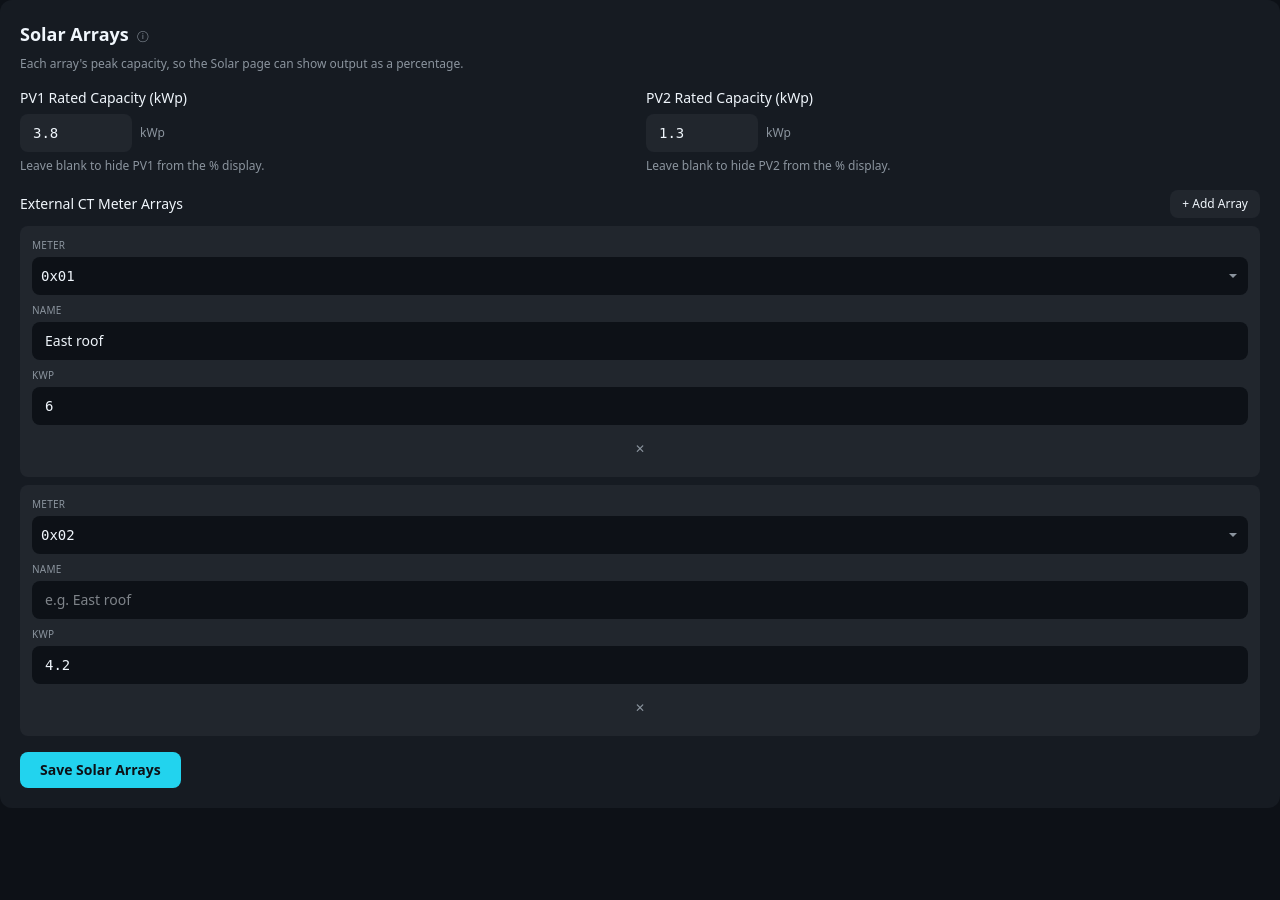
<SolarArraysSection/> — Solar Arrays (issue #110) › CT array list › ✕ removes its row
Click the 2nd button with test id "solar-array-remove".
click(640, 708)  # box [32,692,1248,724]
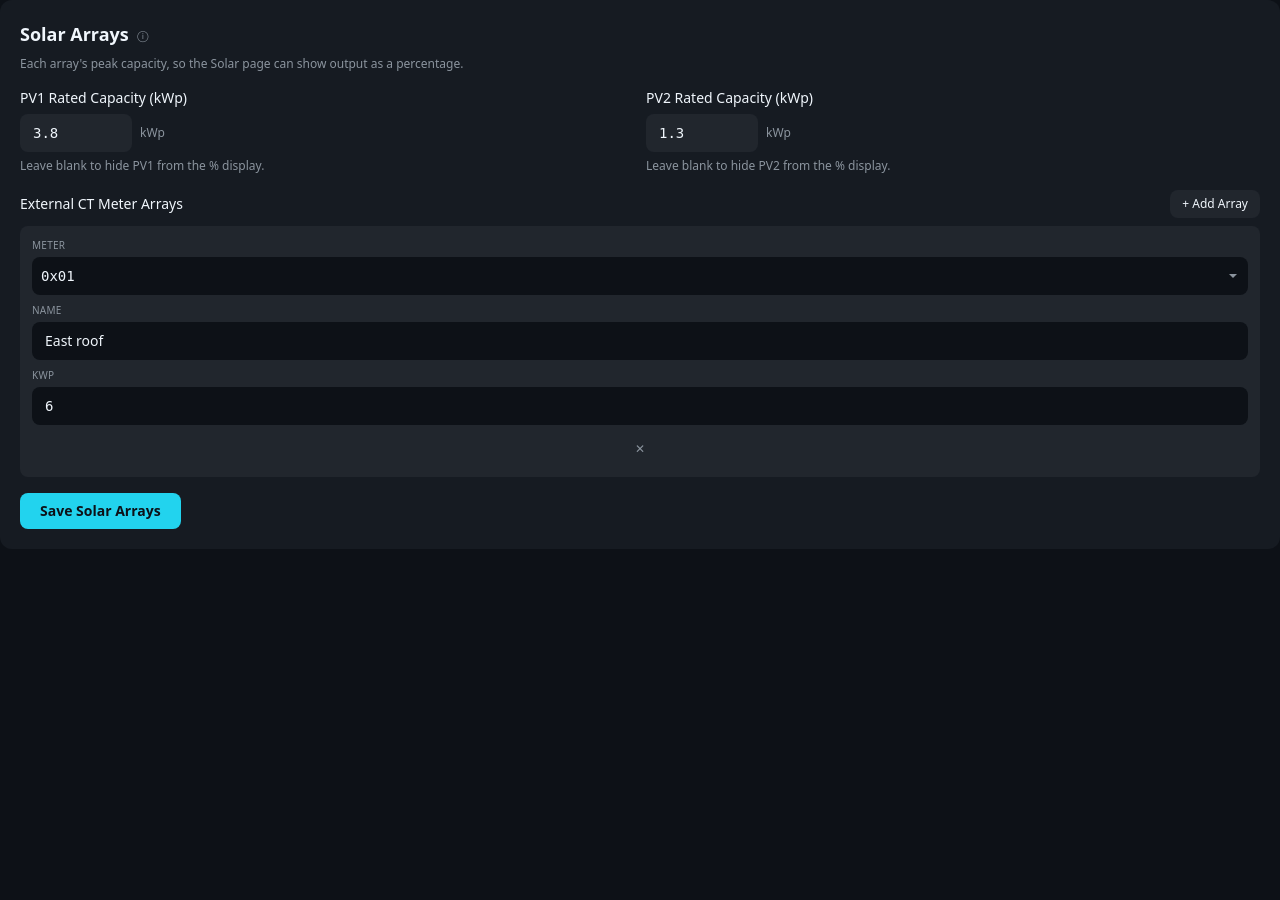
Expected: the number of elements with test id "solar-array-row" is 1, [20,226,1260,477]
